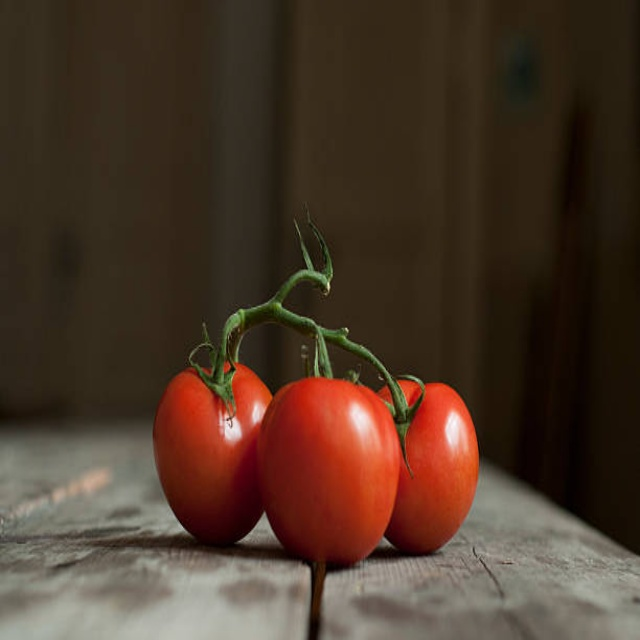tomato: (157, 360, 283, 550), (268, 383, 389, 560), (376, 380, 477, 559)
